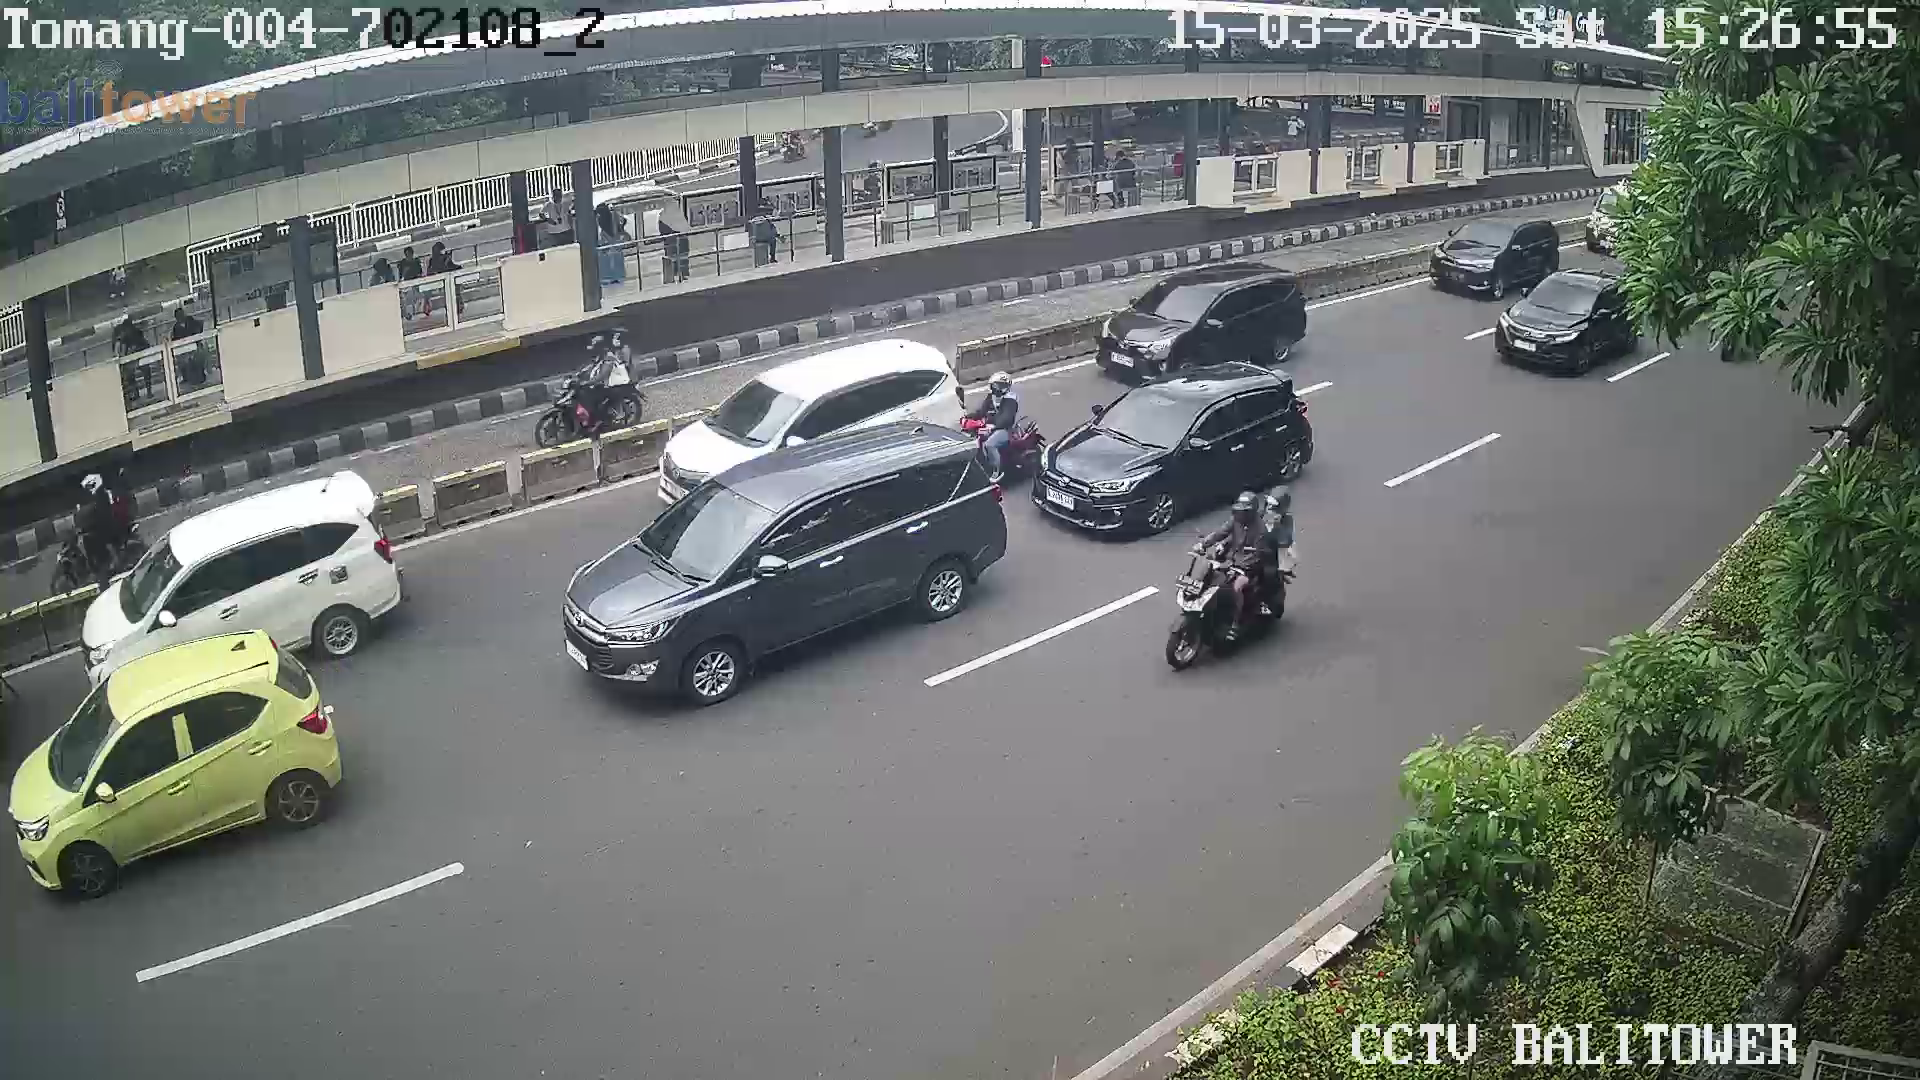half-face helmet: (1261, 482, 1302, 518), (1229, 486, 1261, 529), (986, 369, 1014, 406)
